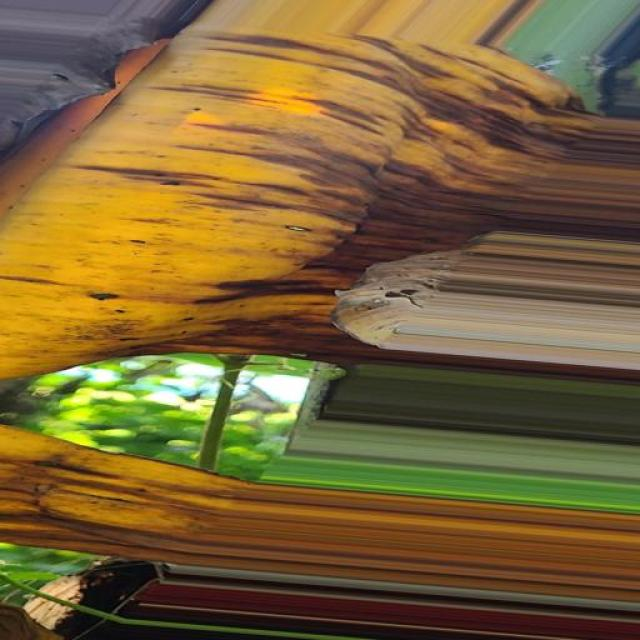Cordana: (0, 8, 555, 640)
